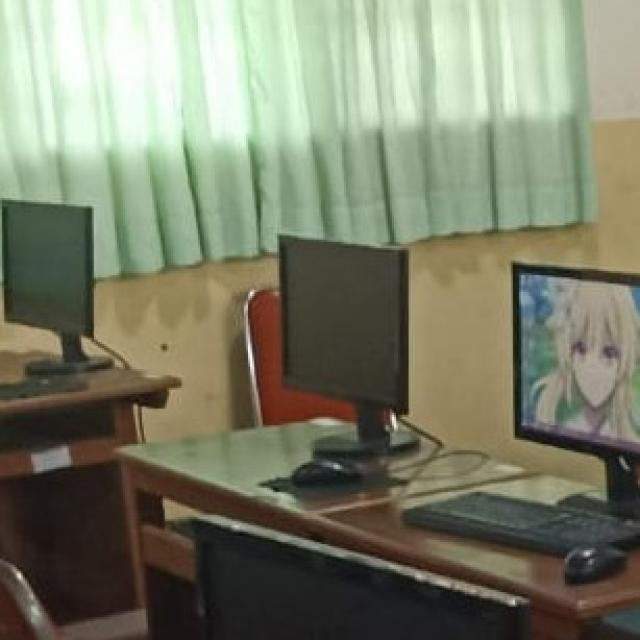offscreen: (281, 235, 407, 412), (3, 201, 93, 334)
onscreen: (516, 264, 640, 517)
